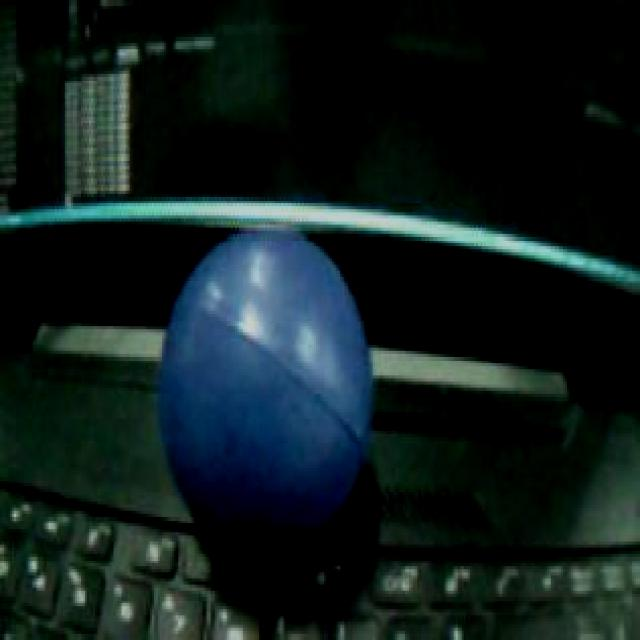BallPurple: (158, 225, 370, 545)
